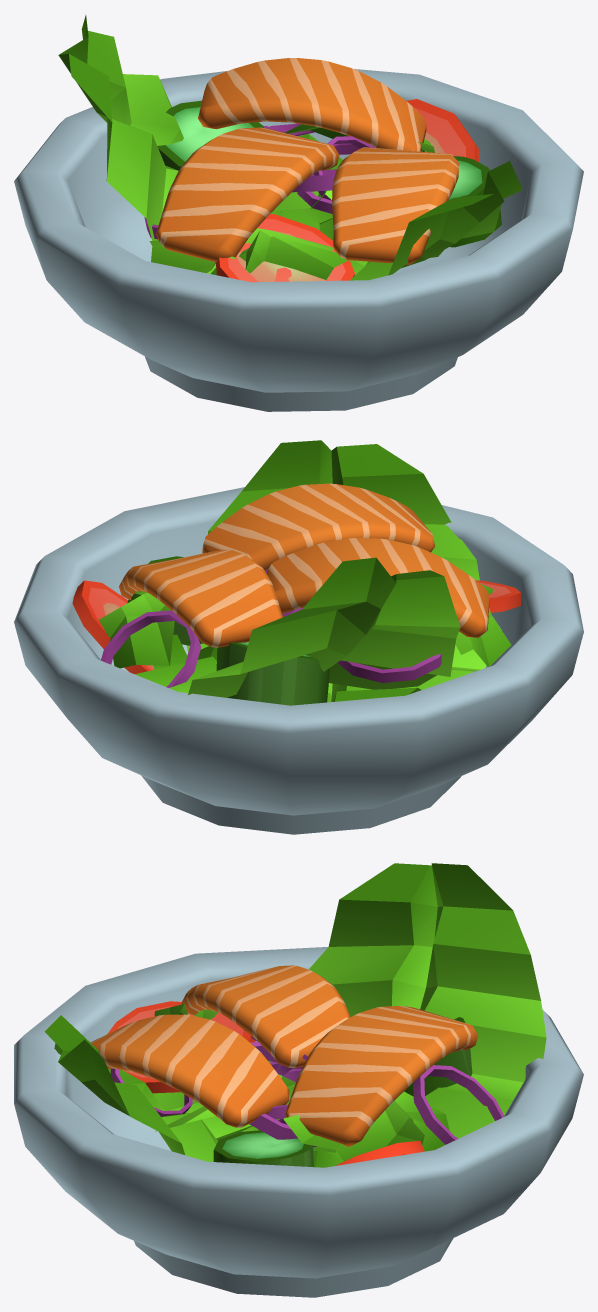
Rendered from Product Fish Salad.fbx.
3 views of the same model, one above another, from view 1: azimuth 30°, elevation 25°; view 2: azimuth 150°, elevation 25°; view 3: azimuth 270°, elevation 25° (orthographic).
Visible parts, largest first — view 1: Product_Fish_salad; view 2: Product_Fish_salad; view 3: Product_Fish_salad.
Part boxes in pixels (x1,y1,x2,y2): Product_Fish_salad: (14, 15, 583, 411); Product_Fish_salad: (14, 440, 583, 834); Product_Fish_salad: (14, 863, 583, 1297).
Bounding box in the file's own units: 153 × 88.13 × 151.
